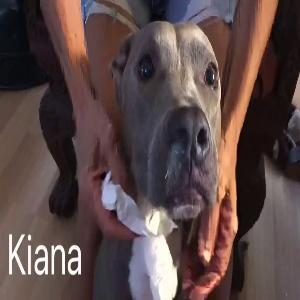nasal_discharge: (158, 115, 190, 177)
